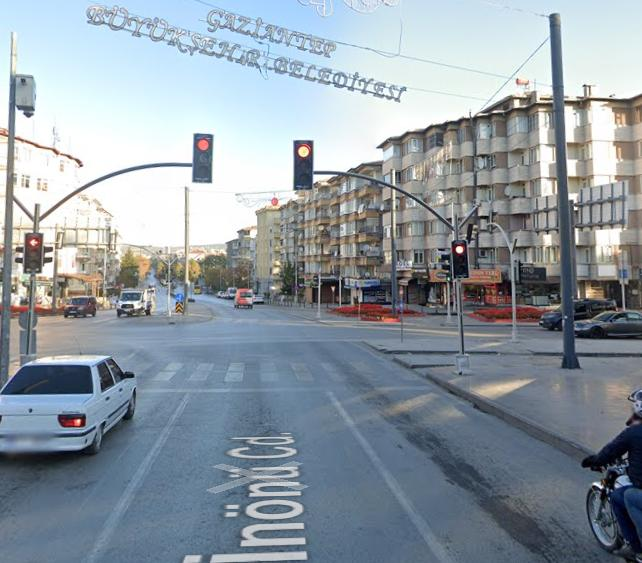redlight: (194, 133, 211, 183), (295, 140, 312, 189), (25, 232, 44, 273), (453, 241, 468, 278)
